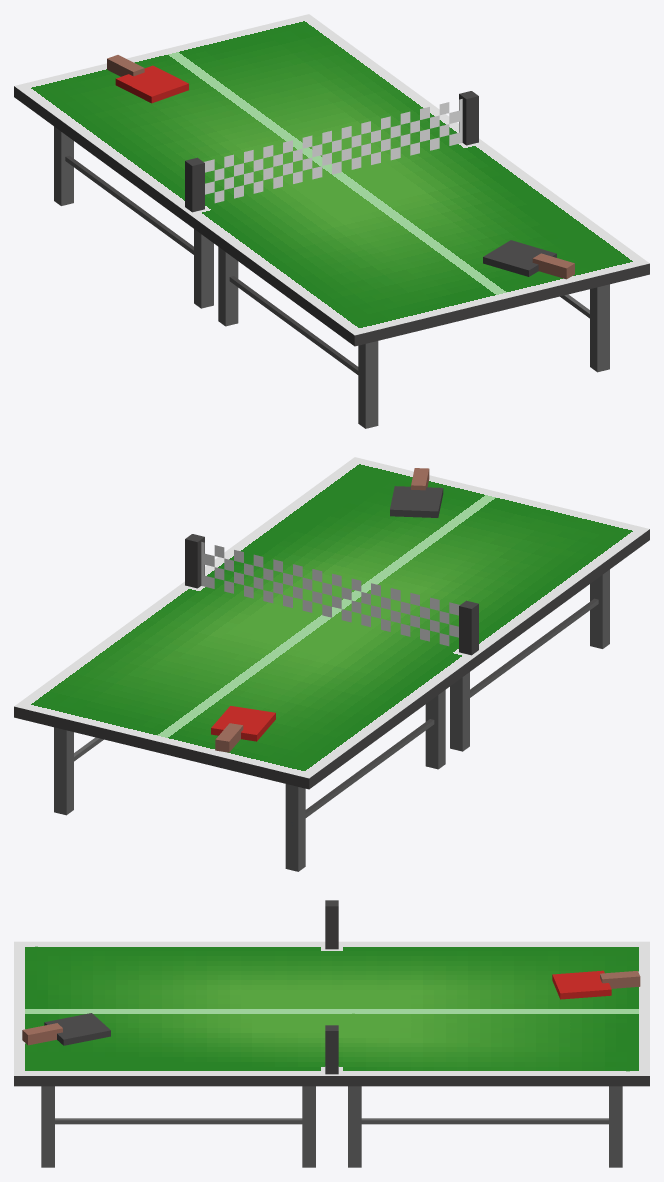
File: Ping_Pong_Table.gltf
The picture shows the model from 3 angles, top to bottom: view 1: azimuth 30°, elevation 25°; view 2: azimuth 150°, elevation 25°; view 3: azimuth 270°, elevation 25°; orthographic projection. The views are drawn at different scales.
Parts seen in each view (by area): view 1: cube (×13), plane; view 2: cube (×12), plane; view 3: cube (×13).
Boxes of the visible parts, x1,y1,x2,y2 form: cube (×13): (14,14,649,428); plane: (204,99,462,203); cube (×12): (14,457,649,871); plane: (201,542,459,646); cube (×13): (14,900,649,1167).
Size of the model in its own units: 0.4375 by 0.2219 by 0.875.
Materials: 1 (1 with a texture image).
